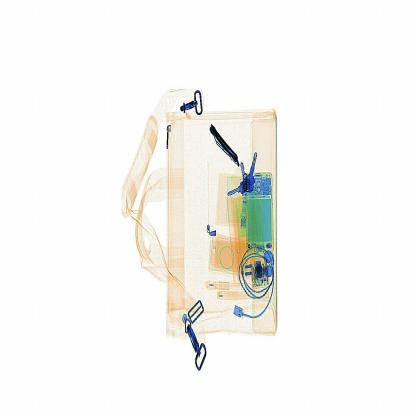knife: (208, 122, 245, 170)
